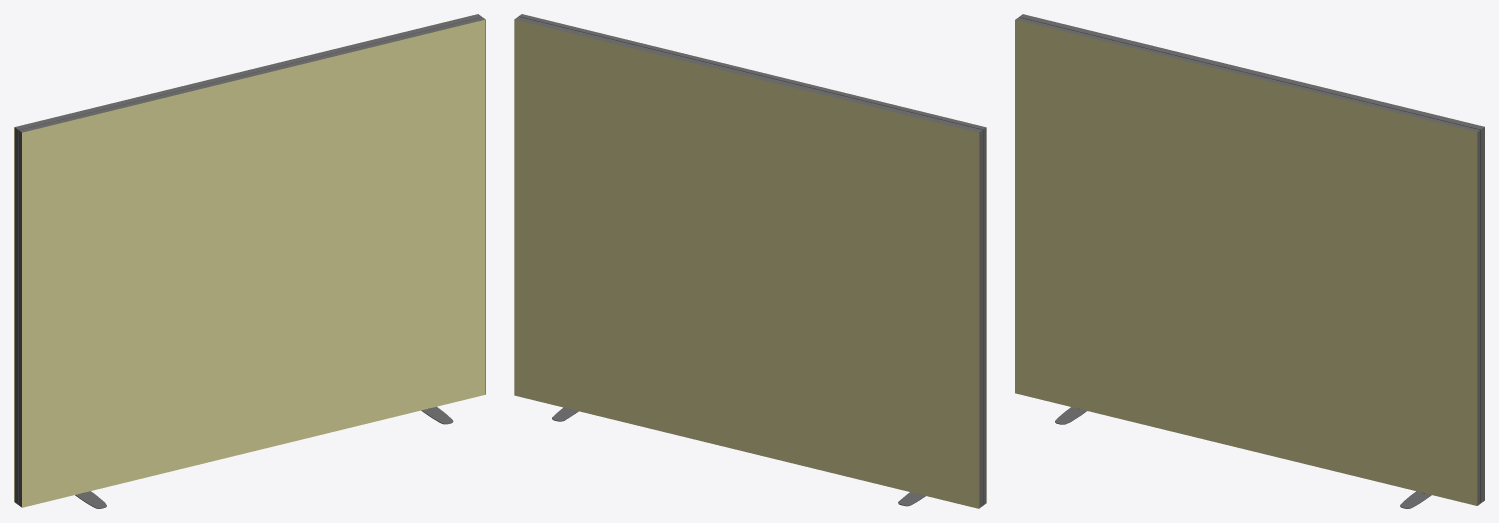
Rendered from 10ft Lightbox.glb.
3 renders of one model, left to right at view 1: azimuth 30°, elevation 25°; view 2: azimuth 150°, elevation 25°; view 3: azimuth 330°, elevation 25°, orthographic.
Parts seen in each view (by area): view 1: pCube84.002; view 2: pCube84.002; view 3: pCube84.002.
Boxes of the visible parts, x1,y1,x2,y2 form: pCube84.002: (14,14,485,507); pCube84.002: (514,14,986,508); pCube84.002: (1015,14,1484,505).
Bounding box in the file's own units: 3.06 × 2.38 × 0.4534.
